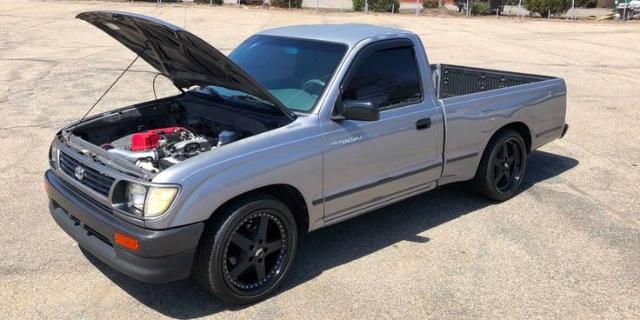pickup-truck: (43, 12, 570, 306)
